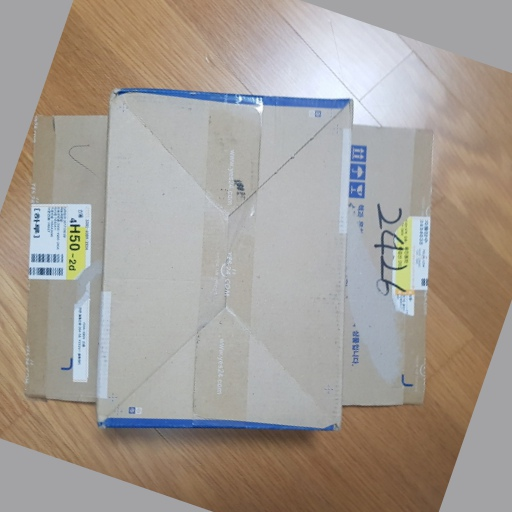Paper_0: (22, 85, 435, 435)
